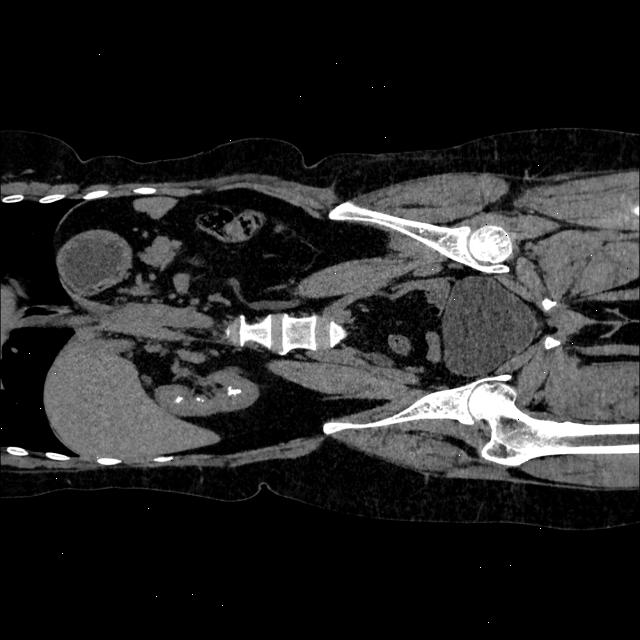kidneystone: (227, 385, 242, 395), (174, 395, 184, 402), (196, 396, 203, 401)
